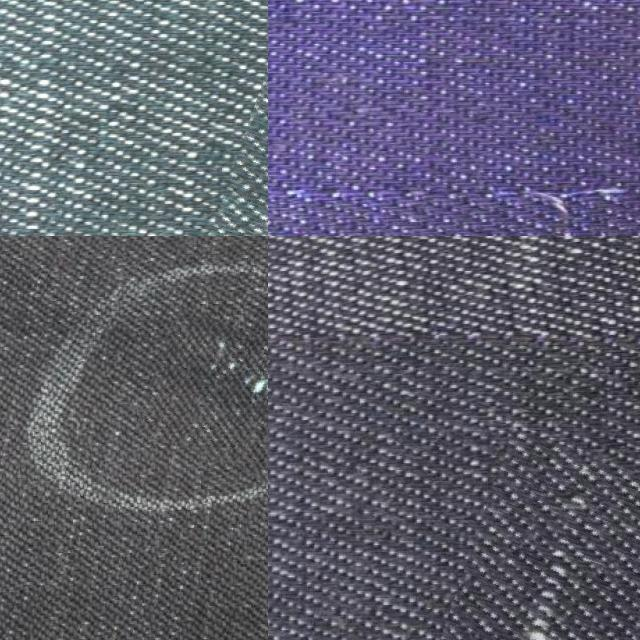stains: (445, 441, 640, 640), (146, 0, 268, 236), (142, 317, 268, 473)
